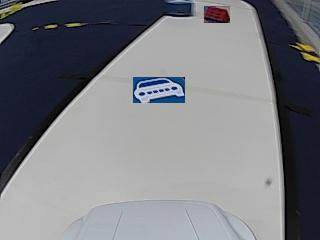prop: (166, 1, 193, 18)
